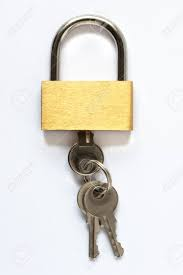key: (71, 178, 129, 268)
